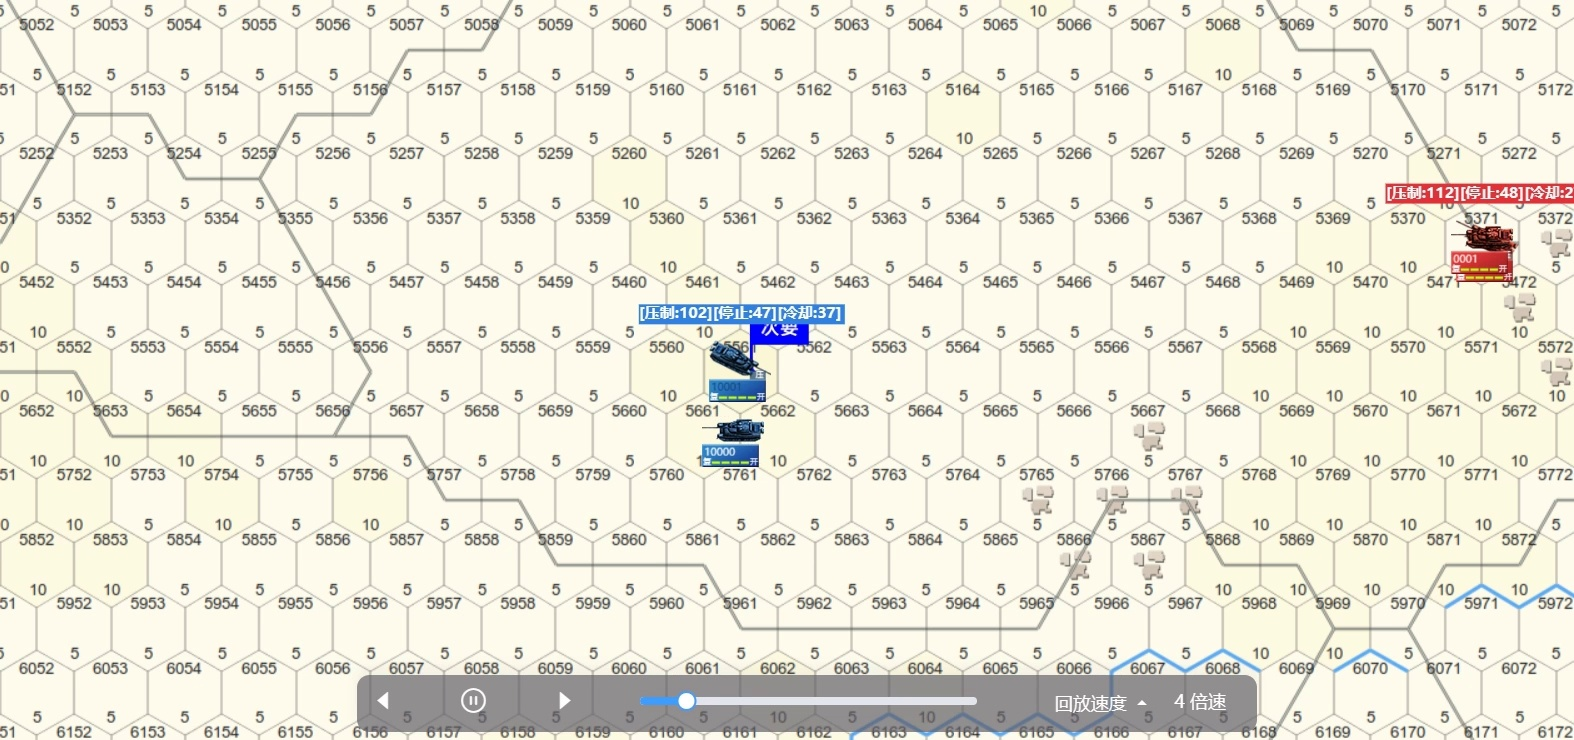blue_tank: (711, 339, 785, 413), (698, 418, 765, 485)
red_tank: (1445, 228, 1520, 303)
